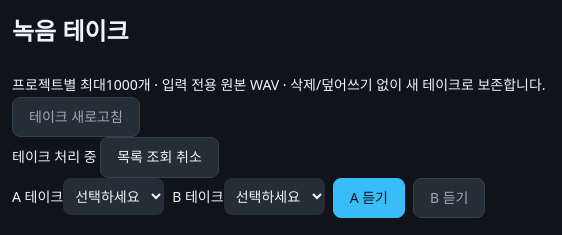
미완료·취소 조회를 빈 목록으로 표시하지 않고 성공한 빈 조회만 안내한다
expect the text "저장된 테이크가 없습니다" is not shown: met
Click the button "목록 조회 취소": (160, 157) top-left (100, 137), bottom-right (219, 178)
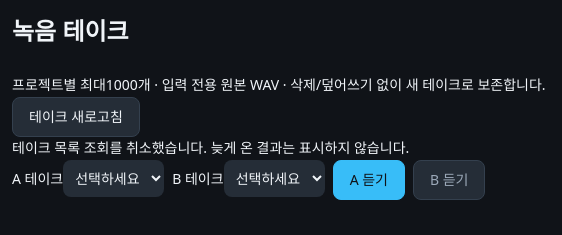
expect the text "저장된 테이크가 없습니다" is not shown: met
expect the text "테이크 목록 조회를 취소했습니다. 늦게 온 결과는 표시하지 않습니다." is shown: met, box top-left (12, 138), bottom-right (409, 157)
Click the button "테이크 새로고침": (76, 117) top-left (12, 97), bottom-right (140, 137)
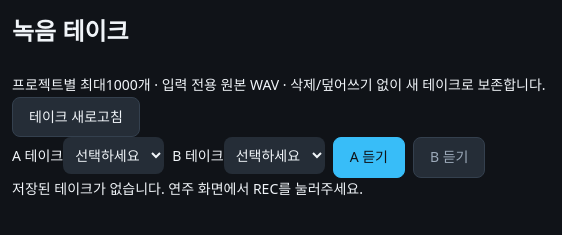
expect the text "저장된 테이크가 없습니다. 연주 화면에서 REC를 눌러주세요." is shown: met, box top-left (12, 179), bottom-right (363, 198)
